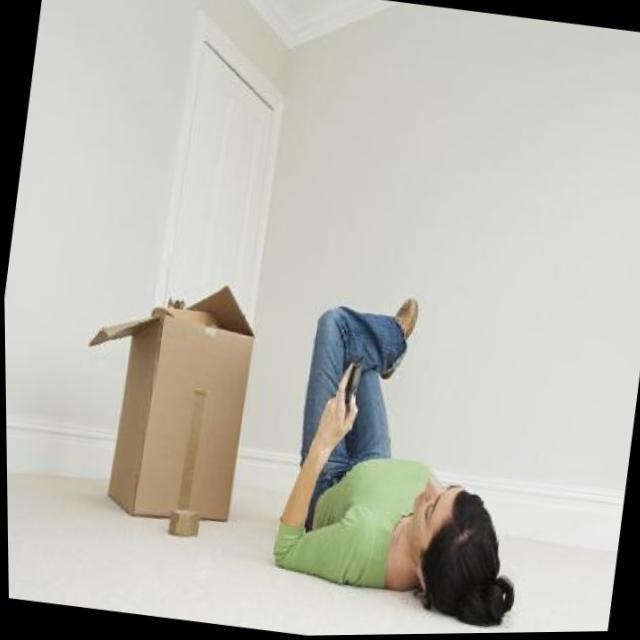box: (60, 248, 273, 570)
